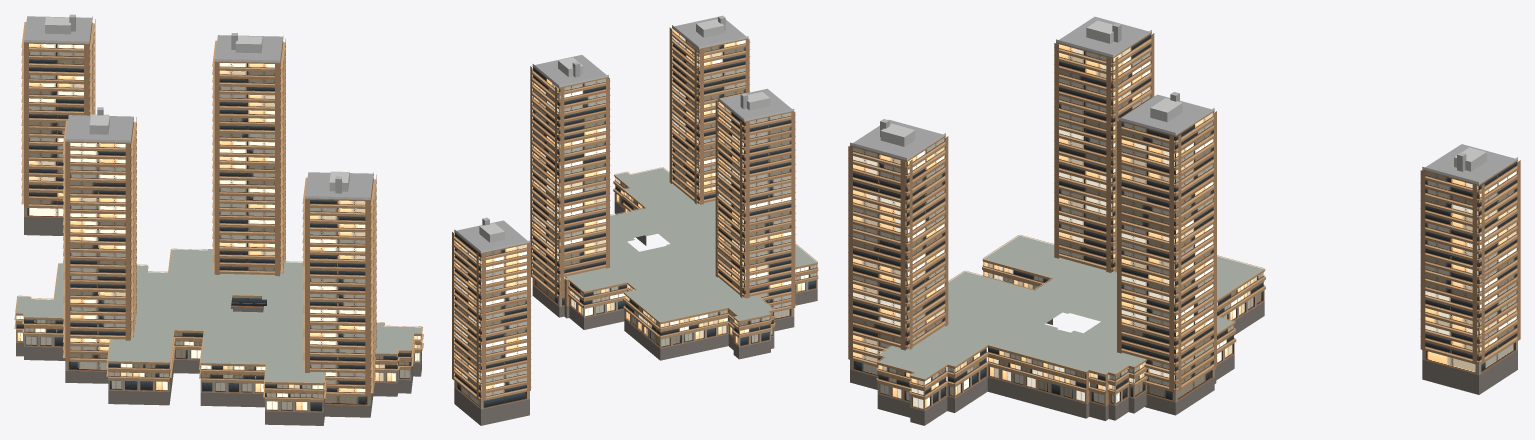
Rendered from hardau_towers.glb.
The picture shows the model from 3 angles, left to right: view 1: azimuth 30°, elevation 25°; view 2: azimuth 150°, elevation 25°; view 3: azimuth 270°, elevation 25°; orthographic projection. The views are drawn at different scales.
Visible parts, largest first — view 1: hardau; view 2: hardau; view 3: hardau.
Part boxes in pixels (x1,y1,x2,y2): hardau: (14, 14, 423, 425); hardau: (452, 15, 818, 425); hardau: (848, 16, 1520, 425).
Size of the model in its own units: 117 by 106 by 215.
Materials: 3 (3 with a texture image).
